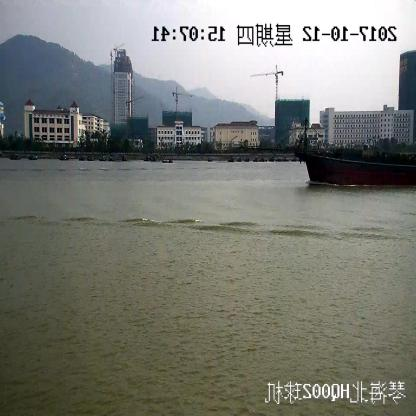Bulk Carrier: (275, 118, 416, 186)
